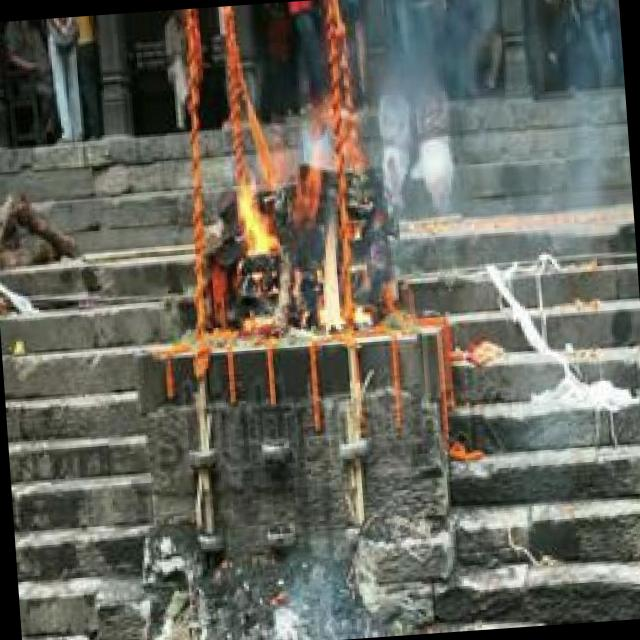Fire: (225, 99, 354, 338)
